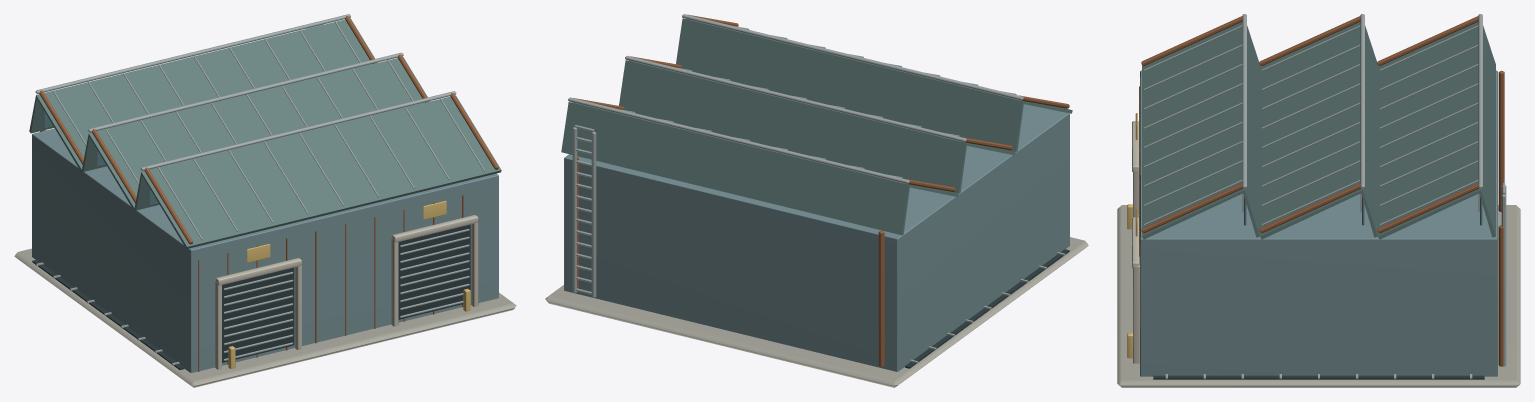
File: SawtoothWorkshop.glb
3 views of the same model, side by side, from view 1: azimuth 30°, elevation 25°; view 2: azimuth 150°, elevation 25°; view 3: azimuth 270°, elevation 25° (orthographic). The views are drawn at different scales.
Visible parts, largest first — view 1: Workshop walls, Sawtooth roof, Sawtooth roof.002, Sawtooth roof.001, Service apron, Roll-up loading door, Roll-up loading door.001, Clerestory cap, Clerestory cap.001, Clerestory cap.002, Drain channel, Door lintel.001 (+9 smaller); view 2: Workshop walls, Sawtooth roof.002, Sawtooth roof.001, Sawtooth roof, Service apron, Clerestory cap, Clerestory cap.001, Clerestory cap.002, Drain channel, Ladder rail, Downpipe, Ladder rail.001; view 3: Workshop walls, Sawtooth roof, Sawtooth roof.002, Sawtooth roof.001, Service apron, Drain channel.001, Downpipe, Clerestory cap, Clerestory cap.001, Clerestory cap.002, Downpipe.001, Ladder rail.001 (+7 smaller).
Boxes of the visible parts, x1,y1,x2,y2 form: Workshop walls: (32,128,498,372); Sawtooth roof: (134,95,501,248); Sawtooth roof.002: (29,18,377,171); Sawtooth roof.001: (82,57,429,210); Service apron: (14,248,516,387); Roll-up loading door: (222,267,294,362); Roll-up loading door.001: (398,224,470,319); Clerestory cap: (140,91,456,170); Clerestory cap.001: (88,52,403,132); Clerestory cap.002: (35,14,350,93); Drain channel: (32,259,184,369); Door lintel.001: (392,215,478,242); Workshop walls: (564,104,1069,371); Sawtooth roof.002: (561,102,958,235); Sawtooth roof.001: (619,60,1015,193); Sawtooth roof: (676,18,1072,151); Service apron: (545,237,1088,387); Clerestory cap: (682,14,1023,100); Clerestory cap.001: (625,55,966,142); Clerestory cap.002: (568,97,909,183); Drain channel: (905,249,1069,368); Ladder rail: (591,131,596,297); Downpipe: (878,230,884,366); Ladder rail.001: (572,127,577,292); Workshop walls: (1140,70,1497,376); Sawtooth roof: (1142,21,1259,239); Sawtooth roof.002: (1378,22,1495,239); Sawtooth roof.001: (1260,22,1377,239); Service apron: (1117,205,1520,387); Drain channel.001: (1153,375,1484,379); Downpipe: (1498,70,1504,212); Clerestory cap: (1242,14,1246,188); Clerestory cap.001: (1360,14,1364,188); Clerestory cap.002: (1478,14,1482,188); Downpipe.001: (1498,225,1503,366); Ladder rail.001: (1501,194,1506,366).
Bounding box in the file's own units: 11.1 × 5.83 × 10.6.
